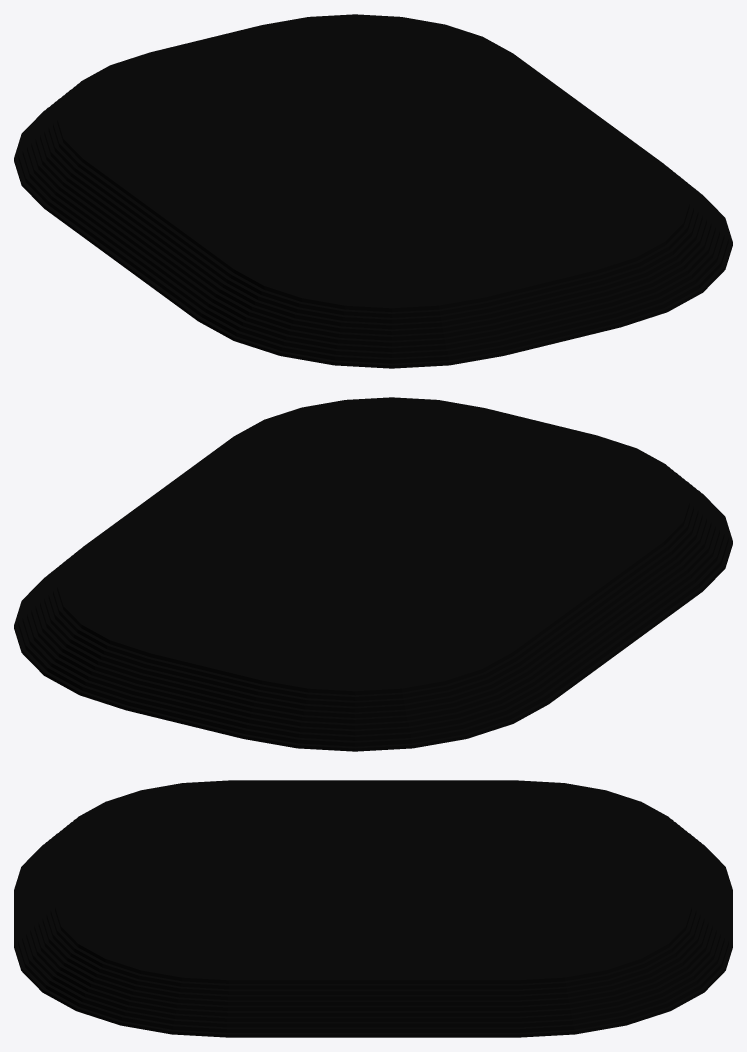
Rendered from base_building.glb.
The picture shows the model from 3 angles, top to bottom: view 1: azimuth 30°, elevation 25°; view 2: azimuth 150°, elevation 25°; view 3: azimuth 270°, elevation 25°; orthographic projection. The views are drawn at different scales.
Parts seen in each view (by area): view 1: Base Building; view 2: Base Building; view 3: Base Building.
Part boxes in pixels (x1=…): Base Building: x1=14, y1=14, x2=732, y2=368; Base Building: x1=14, y1=397, x2=732, y2=751; Base Building: x1=14, y1=780, x2=732, y2=1037.
Size of what is drawn, in the model's own units: 37.19 by 2.96 by 48.21.
1 material, 1 textured.
